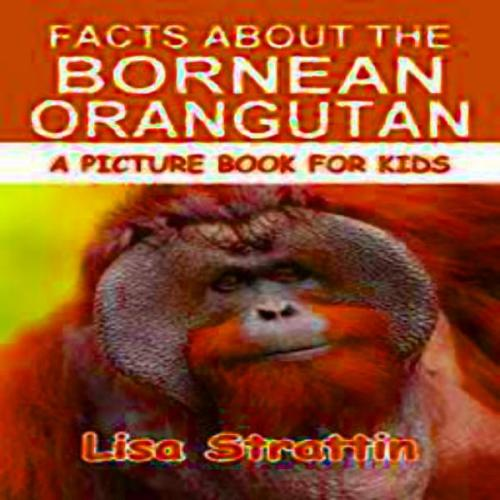orangutan-endangered: (41, 190, 488, 486)
